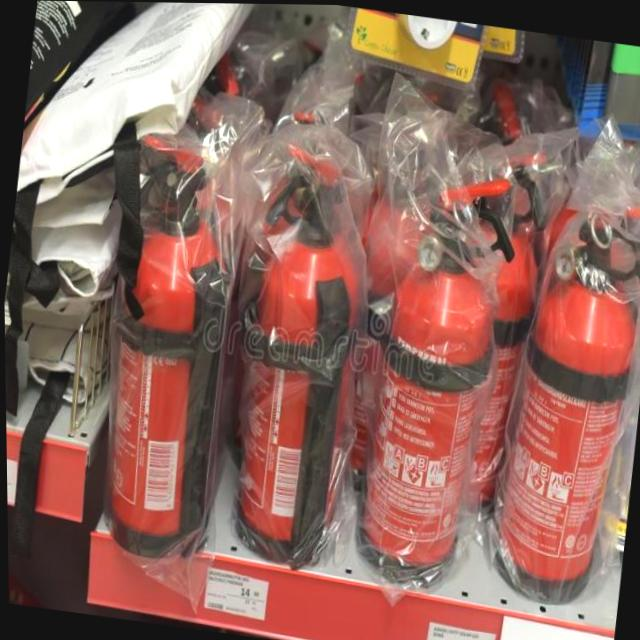FireExtinguisher: (341, 160, 527, 597), (76, 130, 247, 581), (407, 70, 569, 543), (471, 186, 640, 621), (210, 141, 382, 568), (308, 117, 476, 514)
